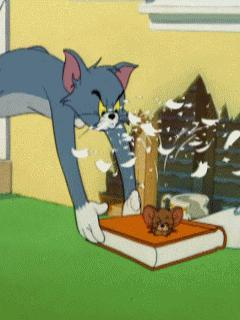jerry: (142, 204, 185, 242)
